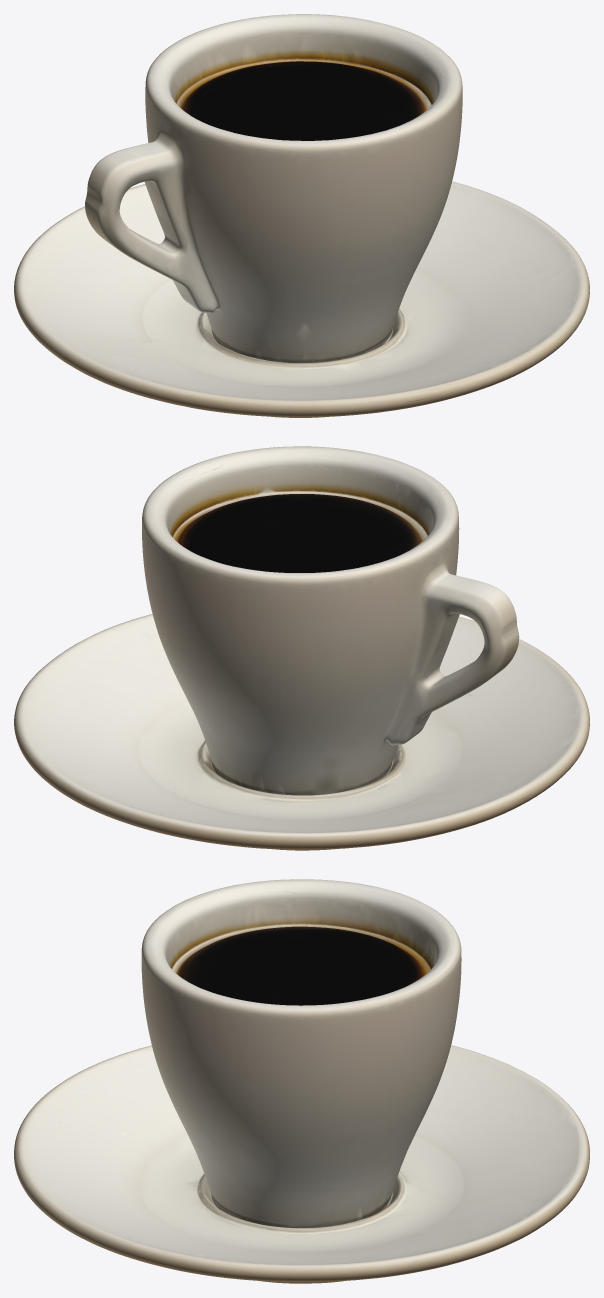
File: coffee-cup.optimized.glb
3 views of the same model, one above another, from view 1: azimuth 30°, elevation 25°; view 2: azimuth 150°, elevation 25°; view 3: azimuth 270°, elevation 25° (orthographic).
Visible parts, largest first — view 1: node_0; view 2: node_0; view 3: node_0.
Boxes of the visible parts, box(x1,y1,x2,y2) form: node_0: box(14, 14, 589, 417); node_0: box(14, 446, 589, 850); node_0: box(14, 879, 589, 1283).
Bounding box in the file's own units: 1.15 × 0.6098 × 1.15.
1 material, 1 textured.
